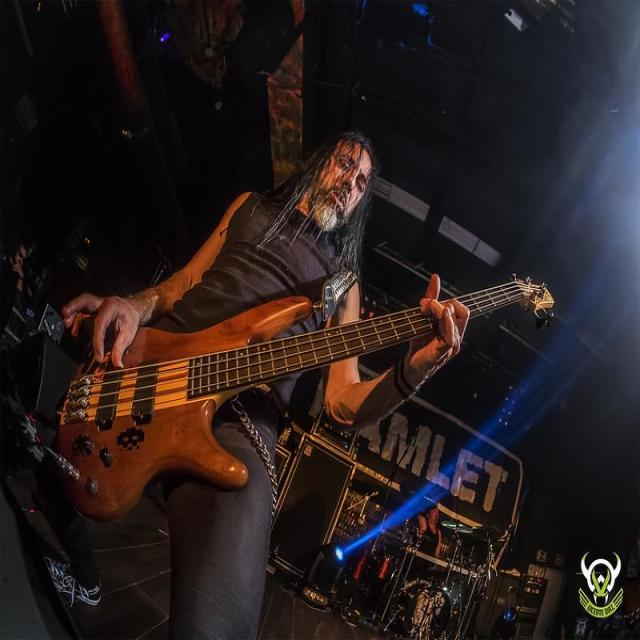bass: (58, 297, 435, 519)
